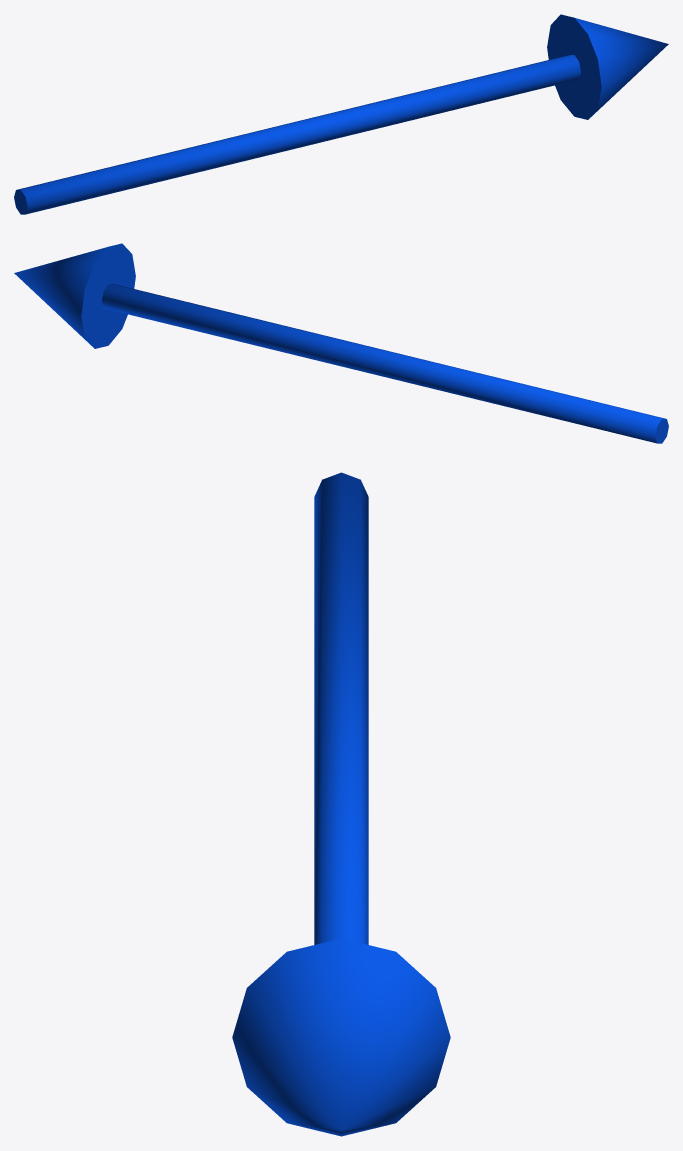
File: drag_blue_merged.glb
3 views of the same model, one above another, from view 1: azimuth 30°, elevation 25°; view 2: azimuth 150°, elevation 25°; view 3: azimuth 270°, elevation 25° (orthographic). The views are drawn at different scales.
Visible parts, largest first — view 1: xDragCone; view 2: xDragCone; view 3: xDragCone.
Boxes of the visible parts, left/top/right/bottom form: xDragCone: left=14, top=14, right=668, bottom=214; xDragCone: left=14, top=243, right=668, bottom=443; xDragCone: left=232, top=472, right=450, bottom=1136.
Bounding box in the file's own units: 1.37 × 0.2 × 0.2.
